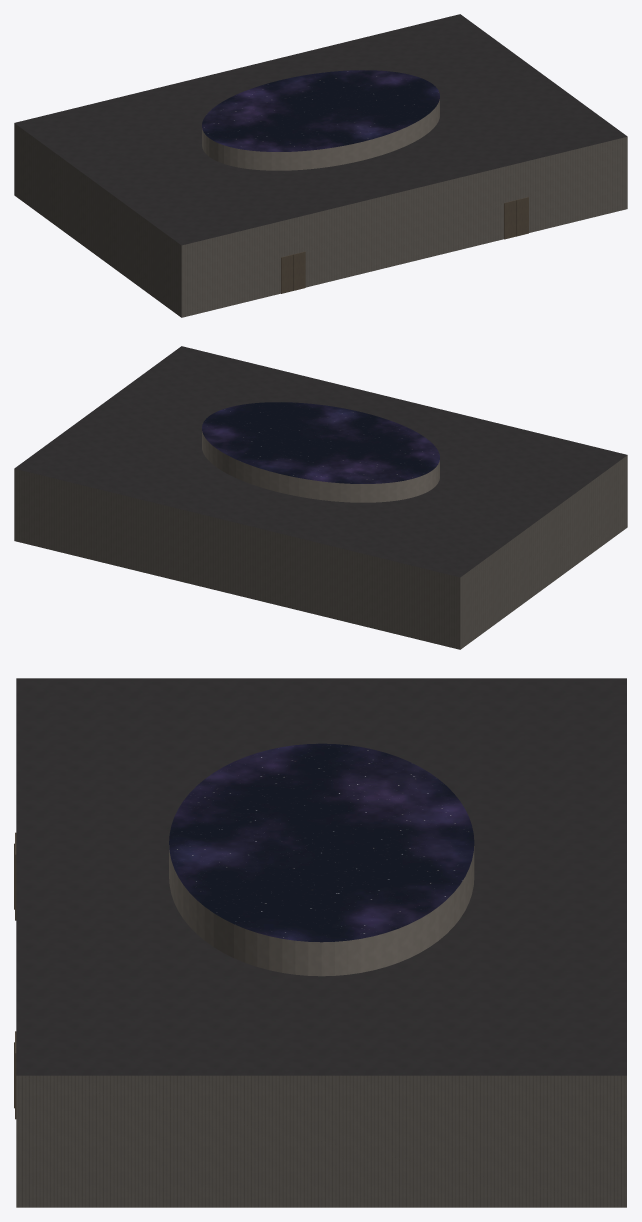
Rendered from T_nopannels_space_B.glb.
The picture shows the model from 3 angles, top to bottom: view 1: azimuth 30°, elevation 25°; view 2: azimuth 150°, elevation 25°; view 3: azimuth 270°, elevation 25°; orthographic projection. The views are drawn at different scales.
Visible parts, largest first — view 1: Ceiling, Hall, T_starfield, Dome, Door_0, Door_1; view 2: Ceiling, Hall, T_starfield, Dome; view 3: Ceiling, Hall, T_starfield, Dome.
Part boxes in pixels (x1=…): Ceiling: x1=14, y1=14, x2=627, y2=245; Hall: x1=14, y1=123, x2=627, y2=317; T_starfield: x1=202, y1=70, x2=439, y2=151; Dome: x1=202, y1=99, x2=439, y2=170; Door_0: x1=281, y1=251, x2=305, y2=293; Door_1: x1=504, y1=197, x2=528, y2=239; Ceiling: x1=14, y1=346, x2=627, y2=577; Hall: x1=14, y1=455, x2=627, y2=649; T_starfield: x1=202, y1=402, x2=439, y2=483; Dome: x1=202, y1=431, x2=439, y2=502; Ceiling: x1=16, y1=678, x2=626, y2=1075; Hall: x1=16, y1=1075, x2=626, y2=1207; T_starfield: x1=169, y1=743, x2=474, y2=942; Dome: x1=169, y1=845, x2=474, y2=976.
Size of the model in its own units: 40.02 by 7.8 by 26.14.
Materials: 9 (6 with a texture image).
